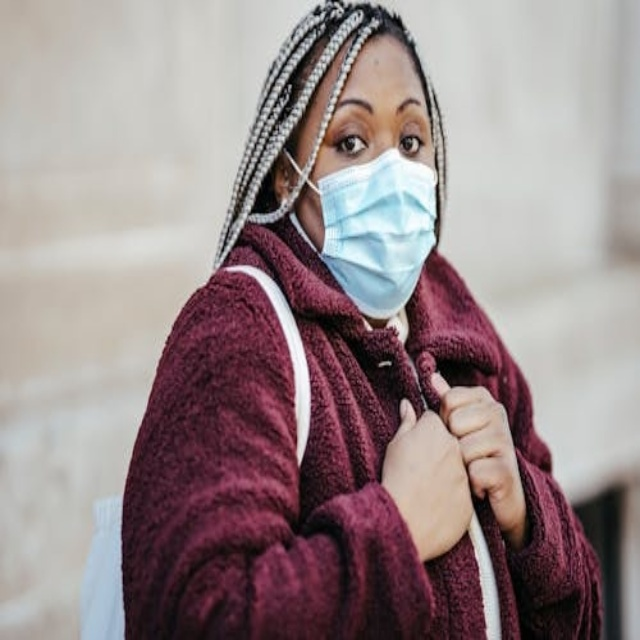Mascara: (301, 147, 440, 317)
Sin_gafas: (333, 132, 369, 156), (398, 133, 425, 156)
Sin_guantes: (377, 379, 476, 566), (440, 361, 527, 555)
